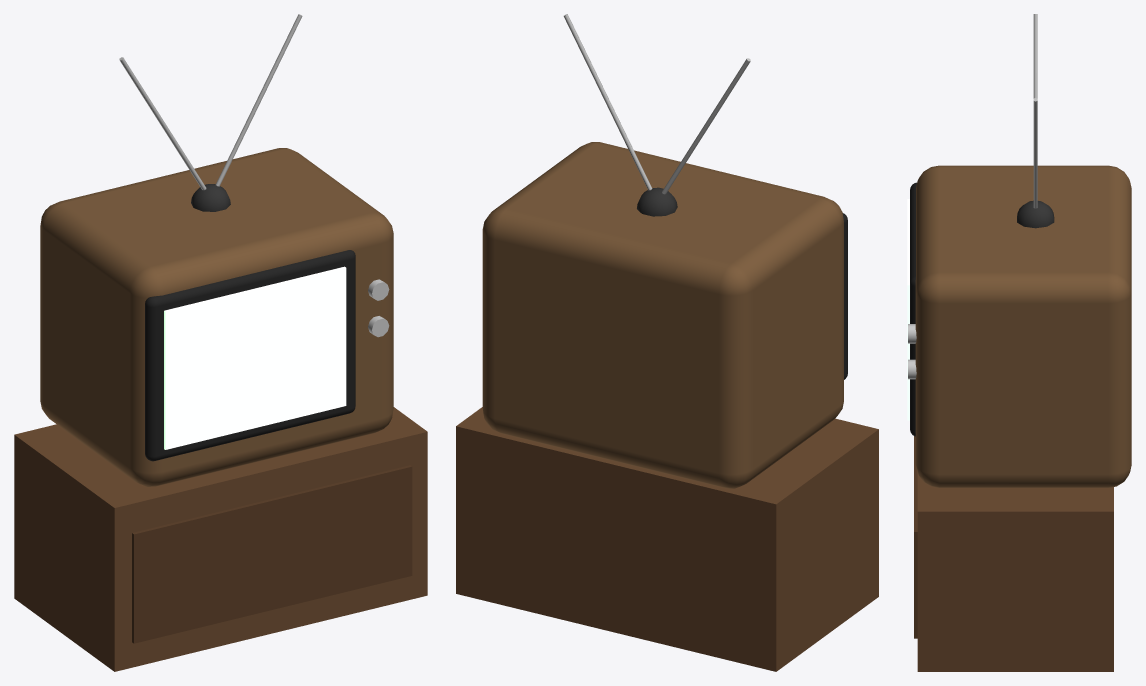
Rendered from crt_tv.glb.
3 views of the same model, side by side, from view 1: azimuth 30°, elevation 25°; view 2: azimuth 150°, elevation 25°; view 3: azimuth 270°, elevation 25° (orthographic). The views are drawn at different scales.
Visible parts, largest first — view 1: main, screen; view 2: main; view 3: main, screen.
Boxes of the visible parts, x1,y1,x2,y2 form: main: (14,14,427,671); screen: (164,266,346,449); main: (456,14,878,671); main: (908,14,1131,671); screen: (907,199,909,420).
Bounding box in the file's own units: 0.9 × 1.52 × 0.572.
